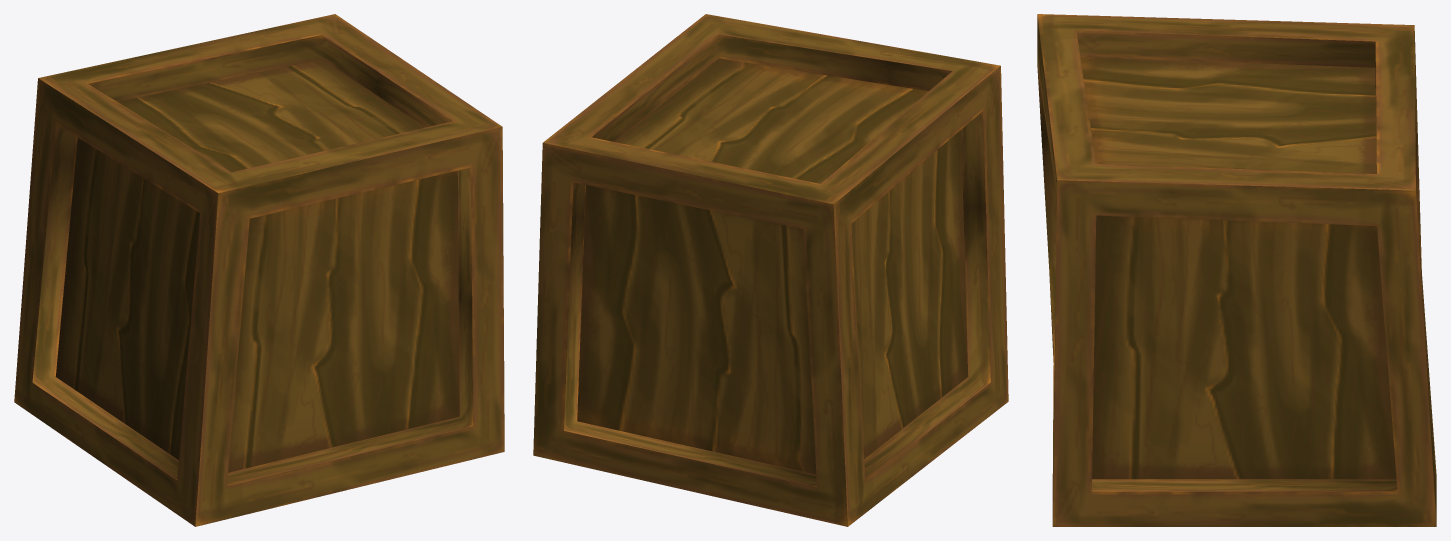
File: V_Caja_Claro2.fbx
3 views of the same model, side by side, from view 1: azimuth 30°, elevation 25°; view 2: azimuth 150°, elevation 25°; view 3: azimuth 270°, elevation 25° (orthographic). The views are drawn at different scales.
Visible parts, largest first — view 1: V_Caja_Claro2; view 2: V_Caja_Claro2; view 3: V_Caja_Claro2.
Part boxes in pixels (left/top/right/bottom): V_Caja_Claro2: left=14, top=14, right=504, bottom=526; V_Caja_Claro2: left=533, top=14, right=1008, bottom=526; V_Caja_Claro2: left=1037, top=14, right=1436, bottom=526.
Size of the model in its own units: 66.05 by 66.76 by 67.2.
